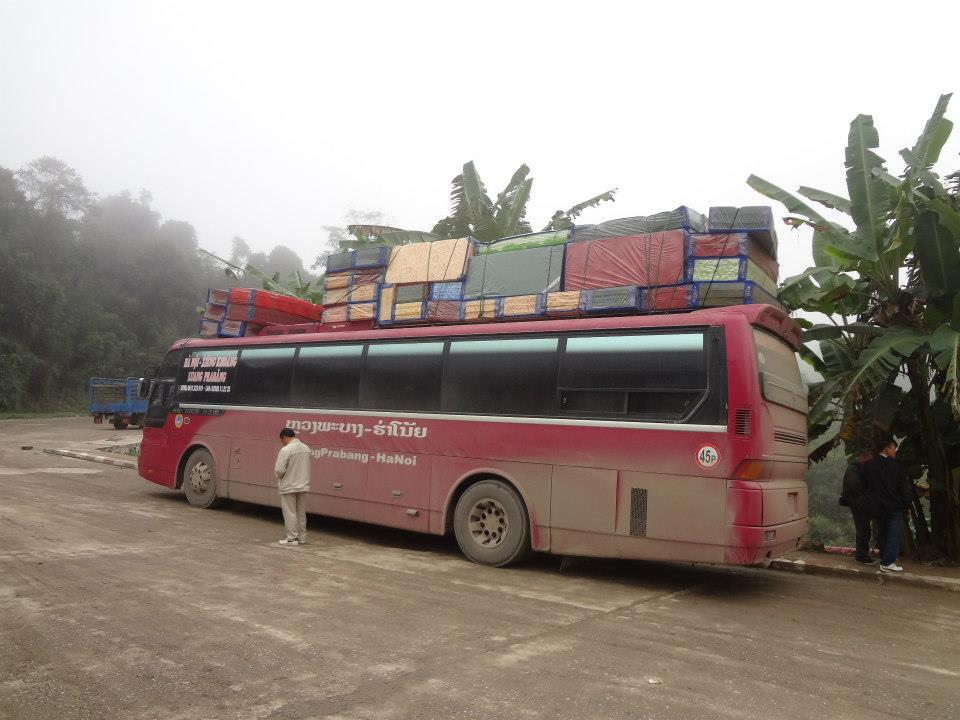bus: (136, 297, 822, 586)
